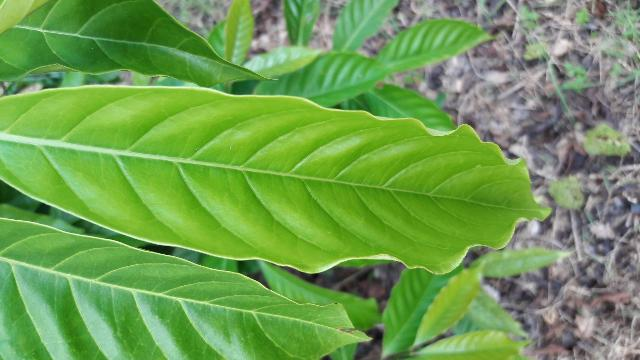healthy: (0, 85, 551, 276)
